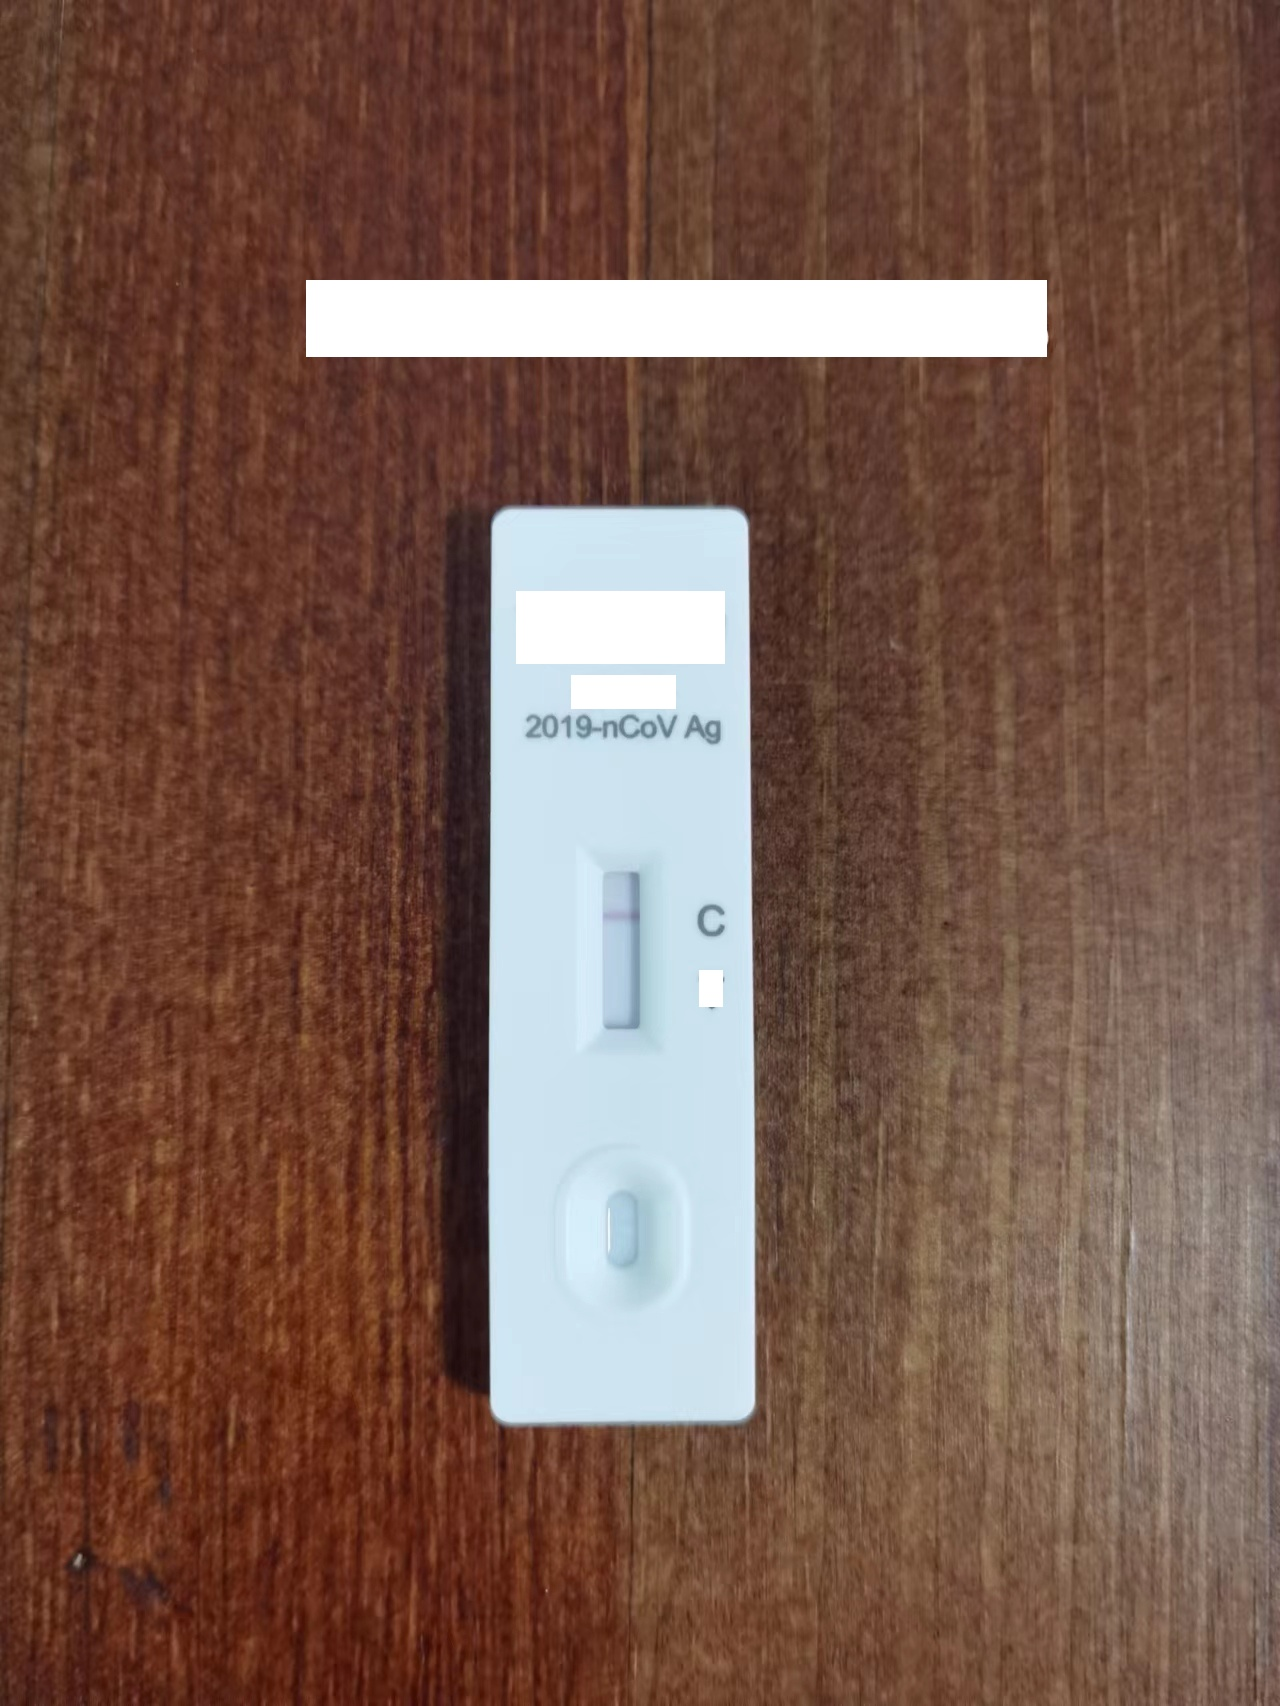negative: (582, 842, 662, 1050)
